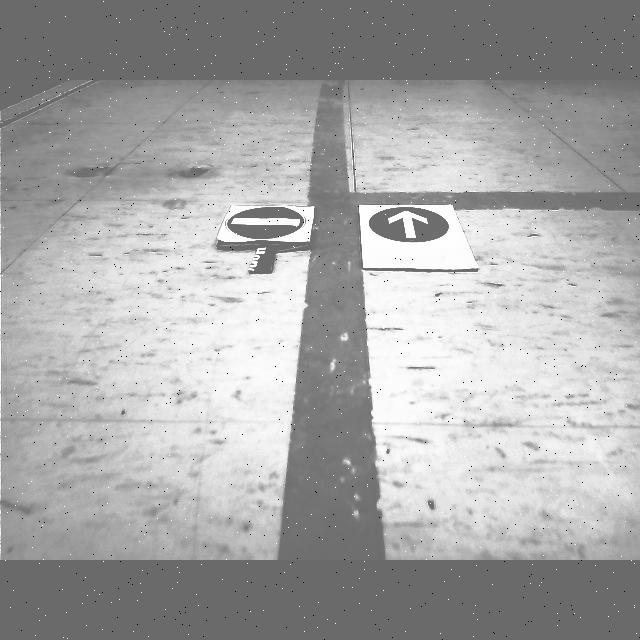GO FORWARD: (370, 207, 449, 243)
NO ENTRY: (227, 207, 303, 238)
